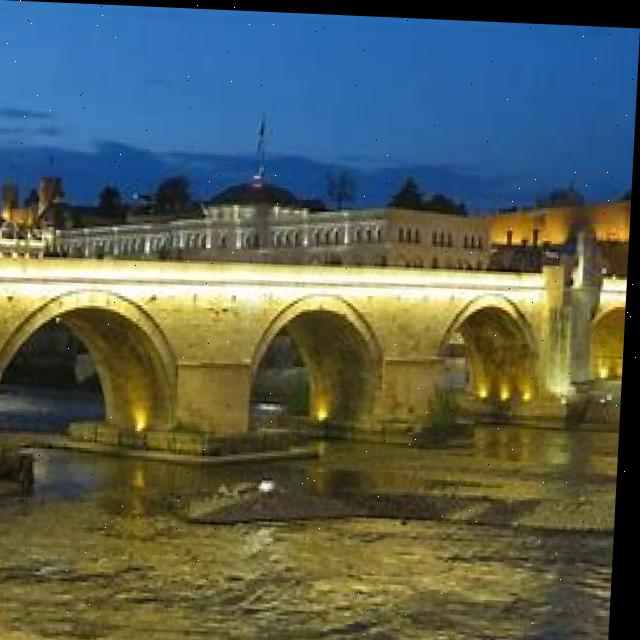Stone Bridge: (0, 209, 629, 491)
